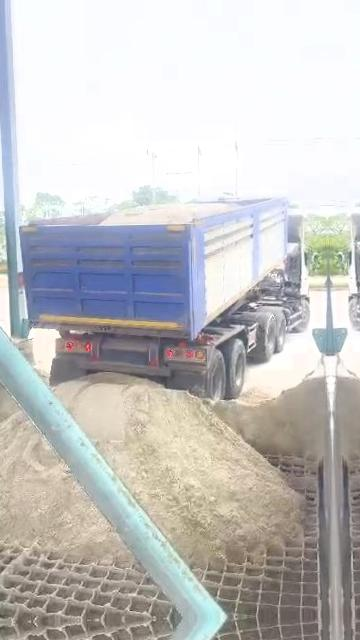sand: (56, 375, 302, 563), (0, 413, 129, 560), (211, 365, 328, 460), (101, 203, 238, 225), (0, 363, 17, 429), (15, 339, 42, 376)
